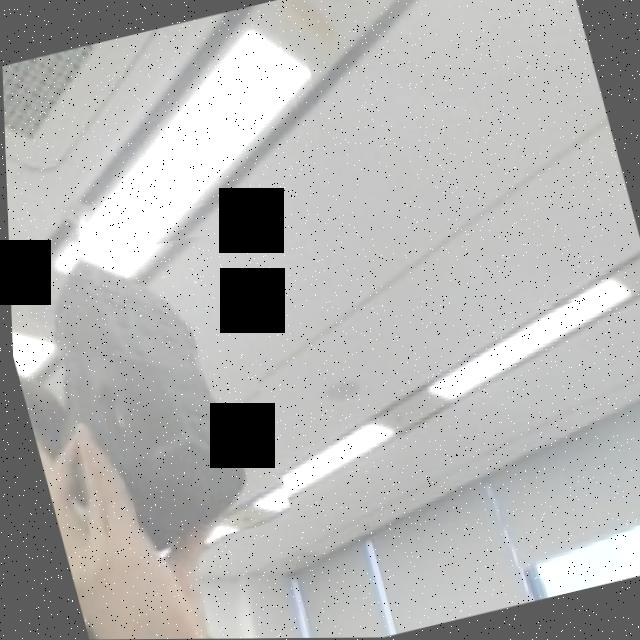shoe: (29, 222, 292, 562)
